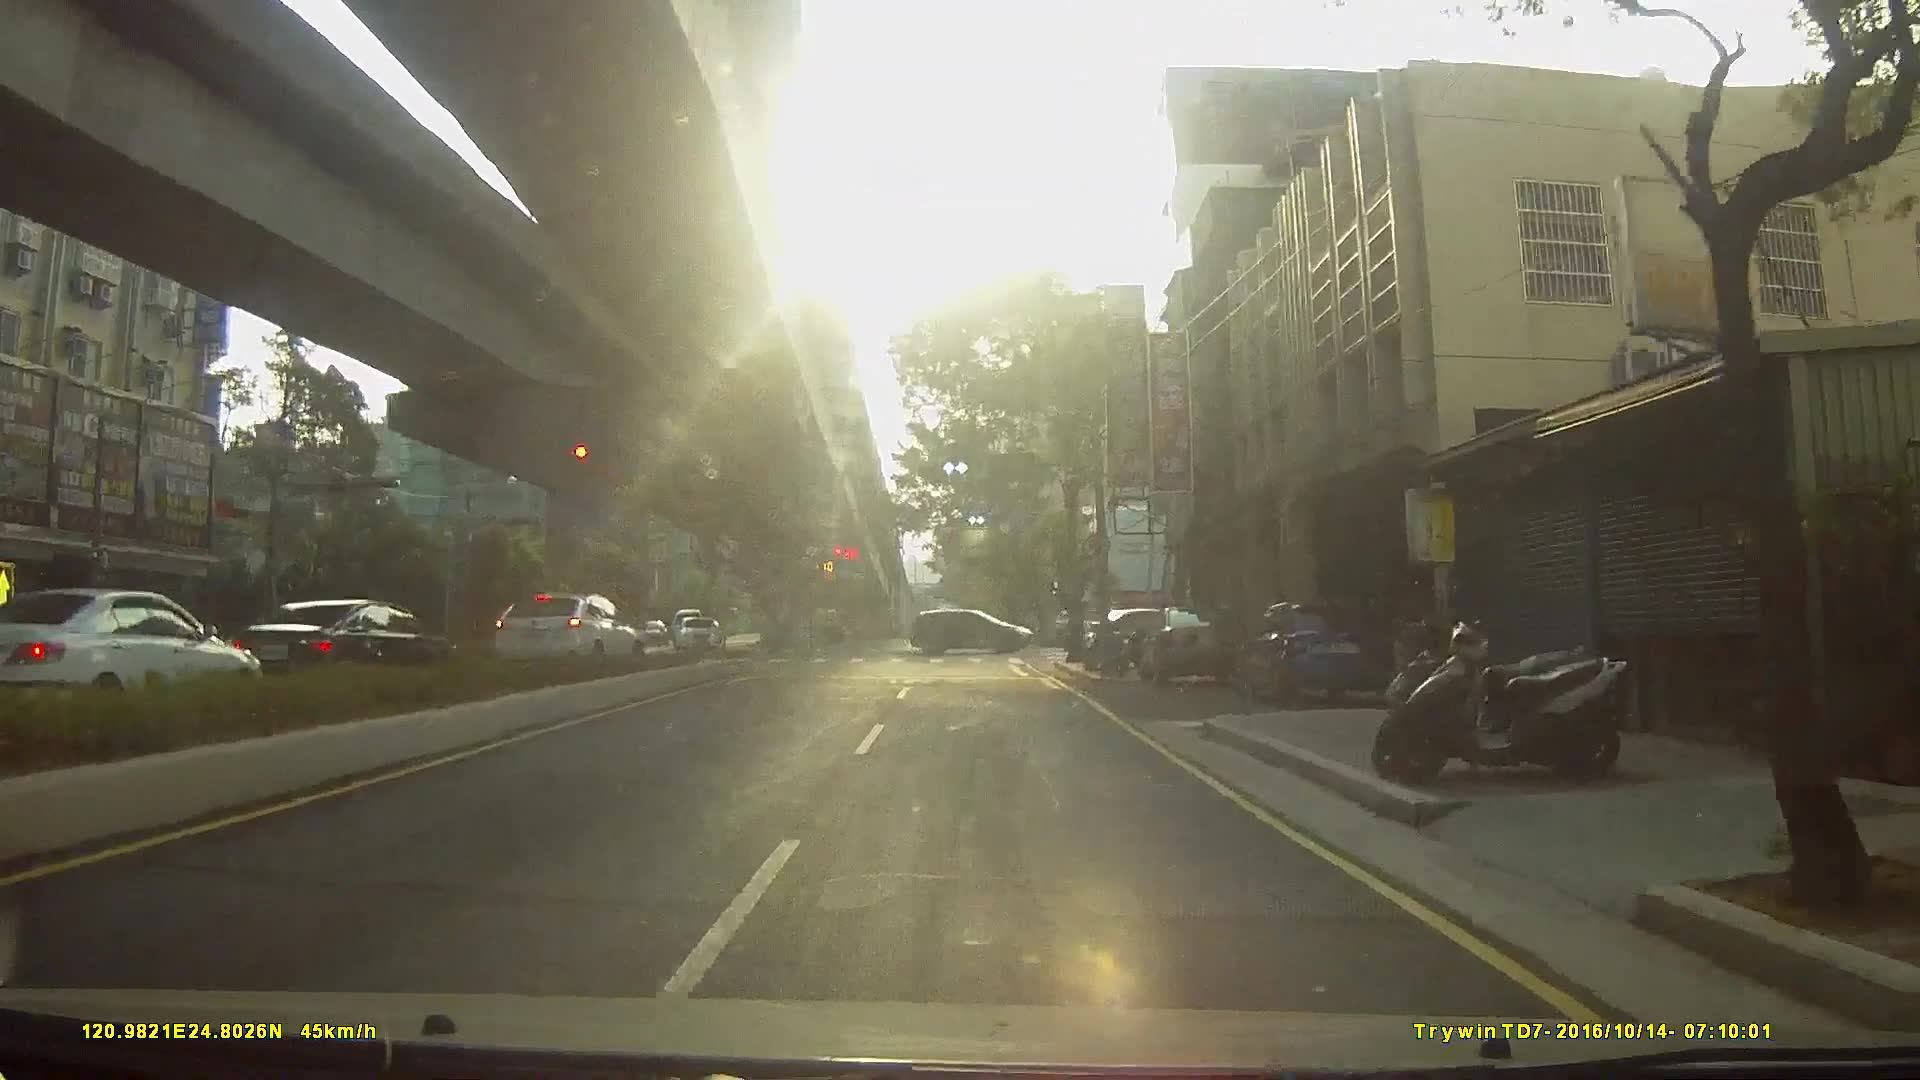vehicle: (1, 585, 262, 731), (222, 597, 464, 696), (1244, 595, 1406, 709), (484, 591, 640, 670), (1139, 600, 1254, 684), (910, 607, 1036, 654), (674, 615, 720, 653), (626, 617, 667, 645)
